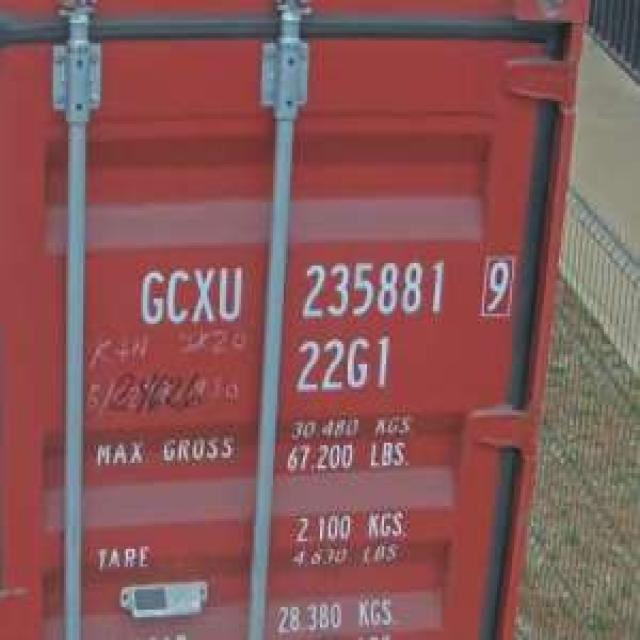dv: (476, 248, 518, 321)
owner: (134, 258, 248, 331)
serial: (297, 250, 448, 324)
size: (290, 331, 395, 400)
